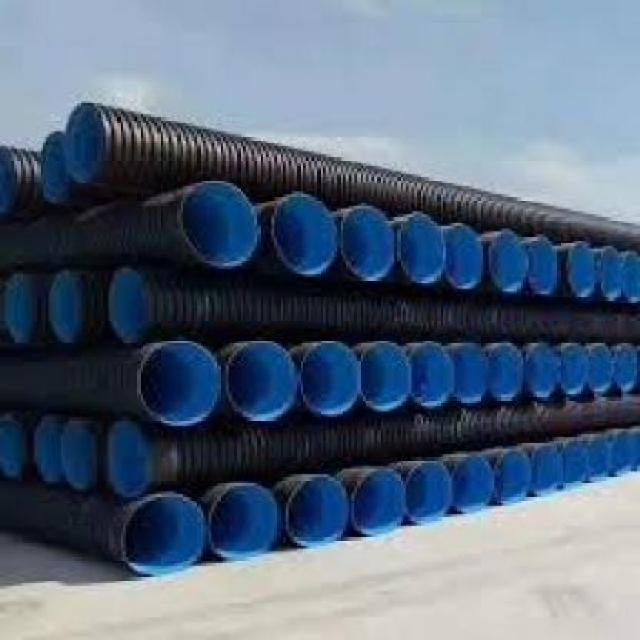pipe: (174, 178, 265, 272), (134, 335, 225, 428), (113, 490, 204, 583), (266, 189, 340, 282), (222, 339, 302, 425), (204, 481, 283, 561), (282, 471, 353, 548), (295, 340, 358, 422), (336, 204, 398, 283), (103, 415, 159, 500), (350, 462, 413, 536), (64, 99, 115, 188), (396, 336, 456, 410), (37, 267, 93, 346), (104, 259, 158, 339), (356, 338, 414, 412), (393, 211, 447, 290), (483, 230, 534, 295), (59, 416, 102, 492), (38, 130, 80, 207), (402, 460, 453, 523), (450, 450, 496, 518), (446, 340, 494, 405), (0, 268, 38, 346), (521, 233, 563, 299), (447, 222, 485, 293), (480, 340, 526, 398), (492, 446, 534, 506), (31, 413, 65, 484), (523, 340, 563, 400), (554, 340, 591, 402), (0, 409, 31, 483), (566, 239, 600, 299), (529, 444, 569, 493), (559, 438, 595, 487), (580, 342, 613, 393), (595, 245, 623, 304), (614, 341, 640, 395)
